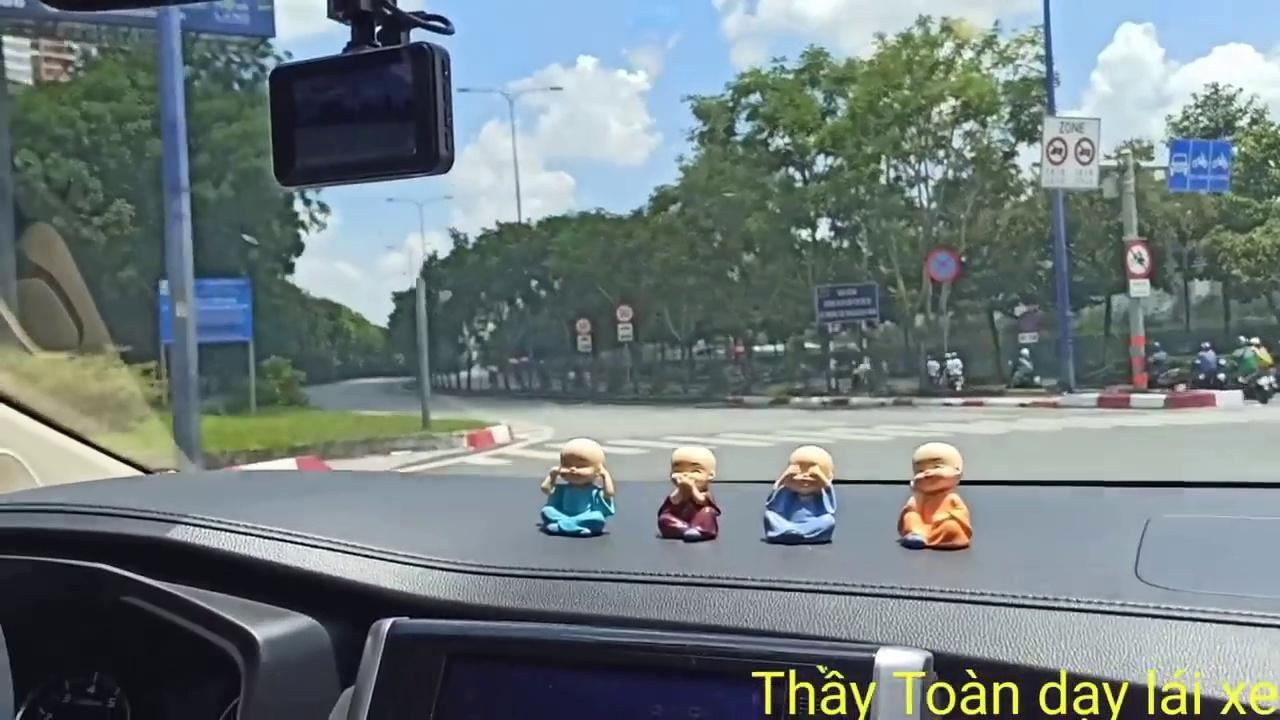Biển phụ: (617, 322, 633, 342), (576, 336, 594, 352)
Cấm cac phương tiện hoạt động trong khung giờ cố định: (1040, 113, 1102, 193)
Cấm dừng - Cấm đỗ: (924, 244, 960, 284)
Cấm xe máy: (1122, 239, 1155, 278)
GIơi hạn tốc độ 60Km/h: (574, 316, 594, 334)
Giới hạn tốc độ 80Km/h: (616, 302, 634, 322)
Khác: (157, 274, 255, 342)
Làn đường cho từng xe: (1170, 137, 1232, 194)
